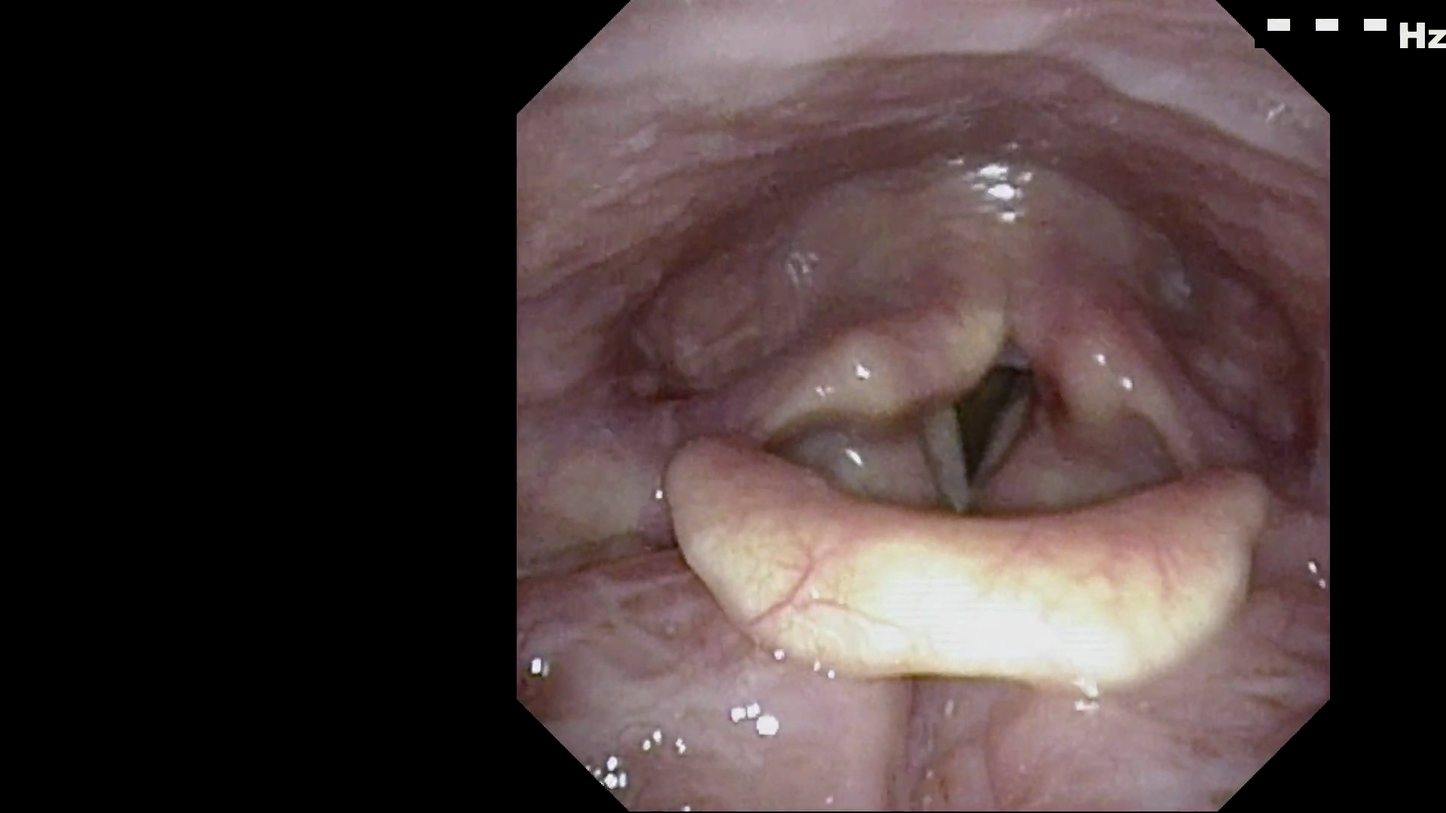epiglottis: (667, 432, 1274, 717)
trachea: (896, 341, 1062, 513)
